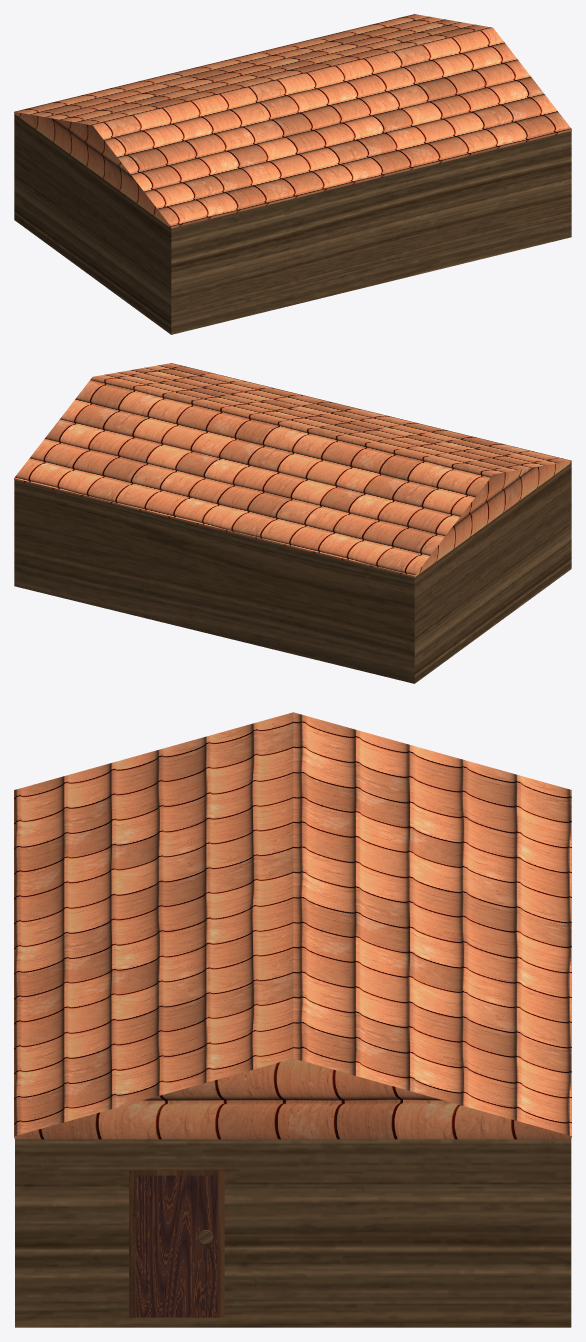
Rendered from Ghat.obj.
The picture shows the model from 3 angles, top to bottom: view 1: azimuth 30°, elevation 25°; view 2: azimuth 150°, elevation 25°; view 3: azimuth 270°, elevation 25°; orthographic projection. The views are drawn at different scales.
Parts seen in each view (by area): view 1: roof, Cube; view 2: roof, Cube; view 3: roof, Cube, doorBody, doorframe.
Boxes of the visible parts, x1,y1,x2,y2 form: roof: (14,14,571,228); Cube: (14,114,571,334); roof: (14,363,571,577); Cube: (14,463,571,683); roof: (14,712,571,1139); Cube: (15,1139,571,1327); doorBody: (136,1175,217,1317); doorframe: (129,1170,224,1317).
Bounding box in the file's own units: 3.09 × 1.12 × 2.1.
